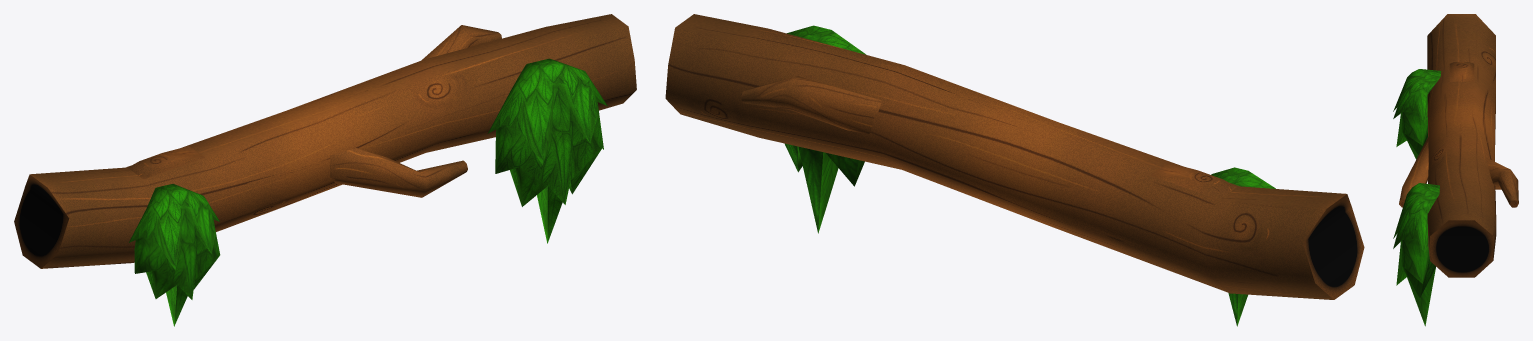
The model's file is TreeTrunk.FBX.
3 renders of one model, left to right at view 1: azimuth 30°, elevation 25°; view 2: azimuth 150°, elevation 25°; view 3: azimuth 270°, elevation 25°, orthographic. The views are drawn at different scales.
Parts seen in each view (by area): view 1: Treetrunk; view 2: Treetrunk; view 3: Treetrunk.
Part boxes in pixels (bbox=[...]): Treetrunk: bbox=[14, 14, 636, 326]; Treetrunk: bbox=[665, 14, 1364, 326]; Treetrunk: bbox=[1393, 14, 1518, 326].
Size of the model in its own units: 2063 by 626 by 491.
